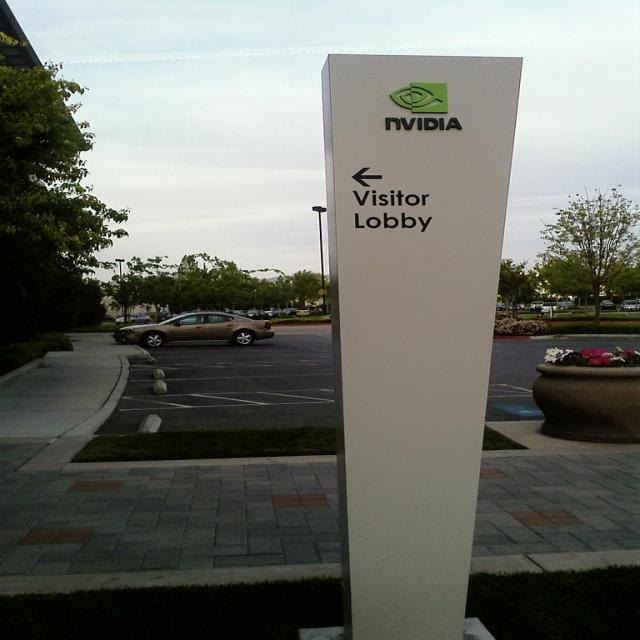nvidia: (388, 83, 449, 113)
